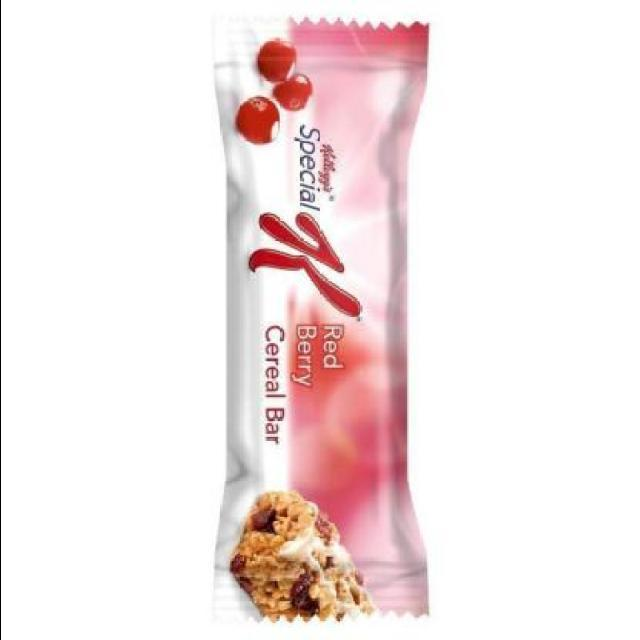Cereal bar: (202, 14, 434, 630)
